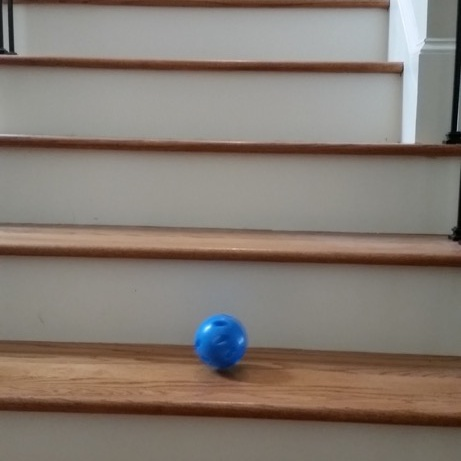blueball: (192, 311, 250, 370)
